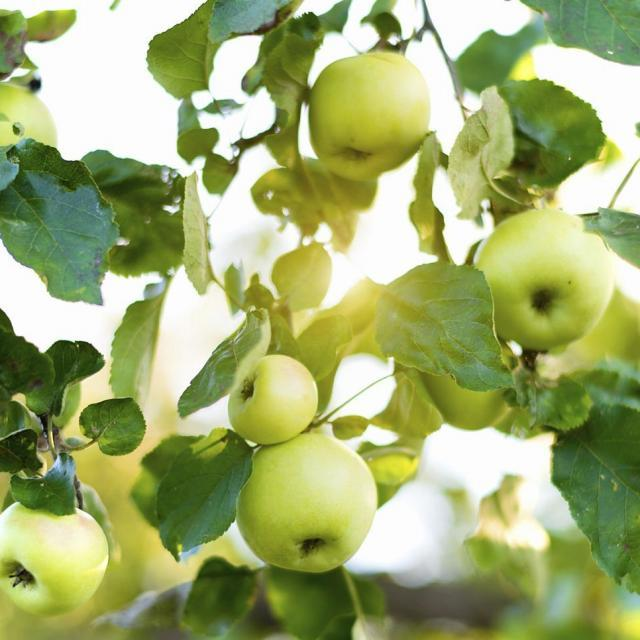Green Apple: (470, 206, 607, 342), (237, 436, 366, 571), (302, 56, 426, 177), (1, 510, 90, 618), (227, 367, 315, 449), (1, 85, 46, 165)
